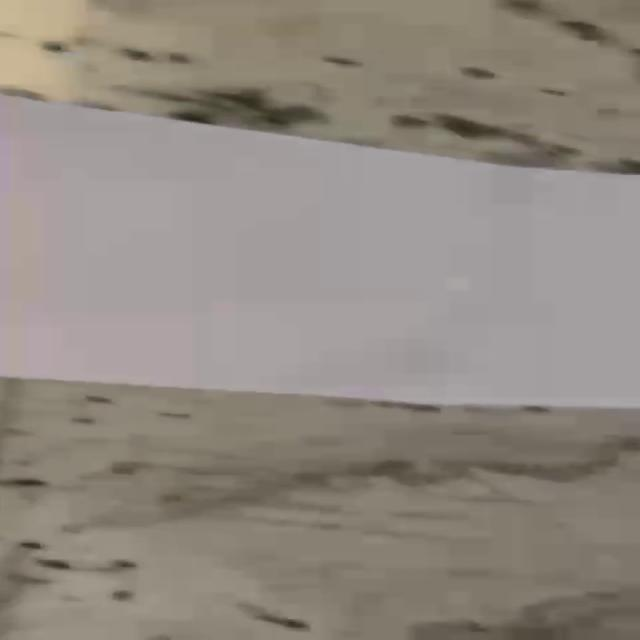road: (0, 91, 640, 410)
